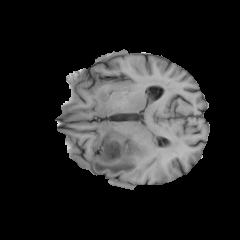glioma: (92, 133, 141, 174)
